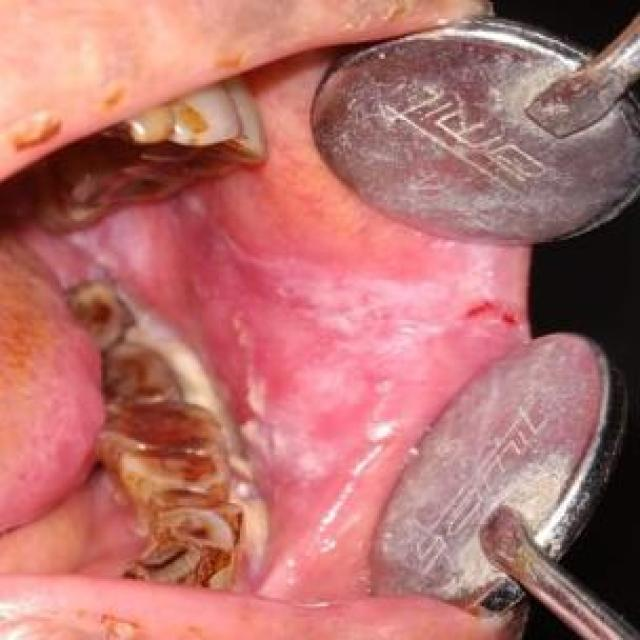leukoplakia-detection: (68, 187, 516, 606)
processing_area: (0, 60, 528, 623)
